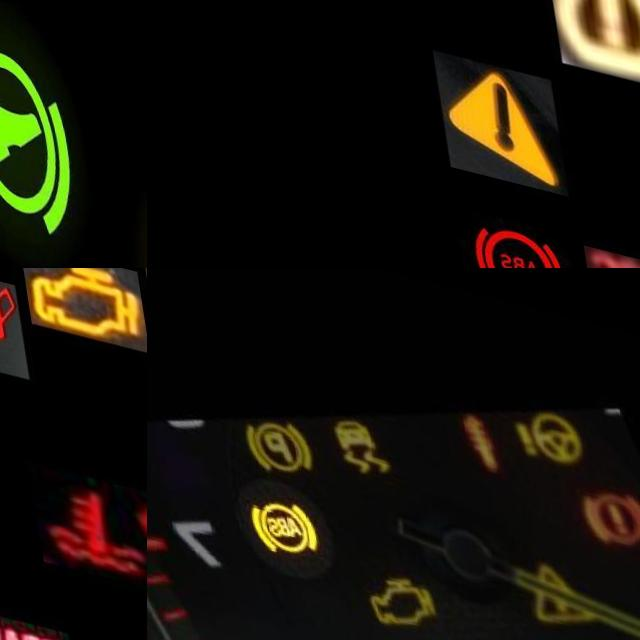Central Warning lamp: (423, 38, 556, 179)
Engine cooling system: (19, 453, 147, 577), (568, 226, 640, 268)
